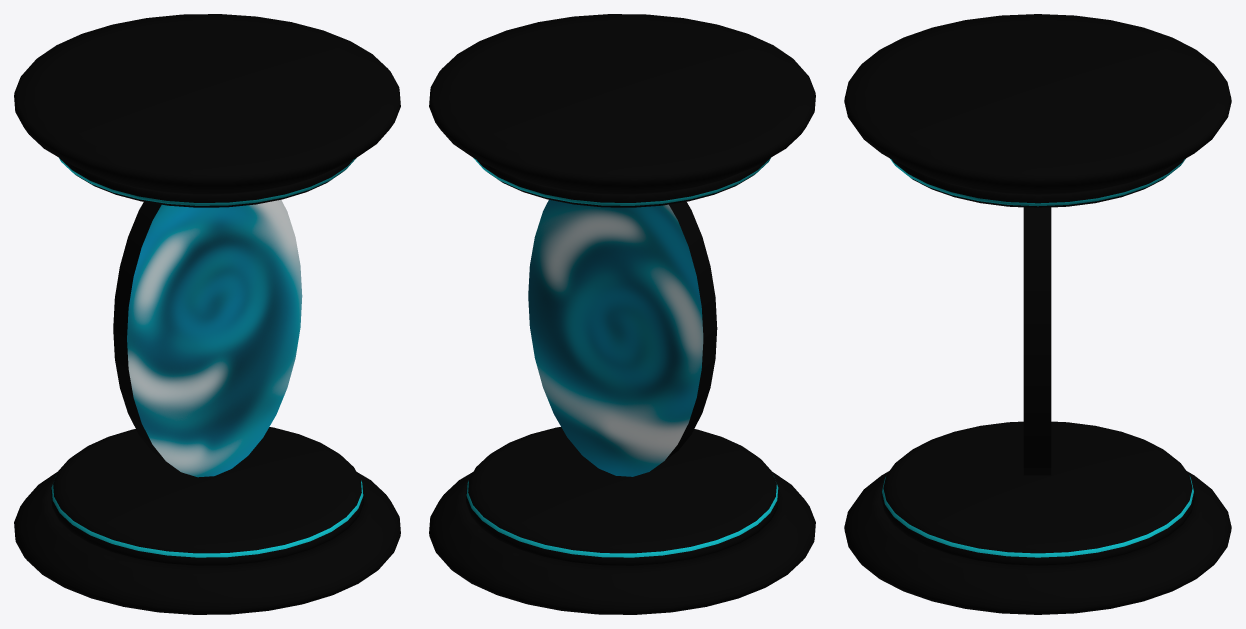
Rendered from Portal.fbx.
3 views of the same model, side by side, from view 1: azimuth 30°, elevation 25°; view 2: azimuth 150°, elevation 25°; view 3: azimuth 270°, elevation 25° (orthographic).
Parts seen in each view (by area): view 1: PortalParteCima, PortalParteBaixo, Circle; view 2: PortalParteCima, PortalParteBaixo, Circle; view 3: PortalParteCima, PortalParteBaixo, Circle.
Boxes of the visible parts, x1,y1,x2,y2 form: PortalParteCima: (14, 14, 400, 207); PortalParteBaixo: (14, 427, 400, 614); Circle: (113, 200, 302, 477); PortalParteCima: (429, 14, 815, 207); PortalParteBaixo: (429, 427, 815, 614); Circle: (528, 200, 717, 476); PortalParteCima: (844, 14, 1231, 207); PortalParteBaixo: (844, 421, 1231, 614); Circle: (1023, 207, 1051, 475).
Bounding box in the file's own units: 80.49 × 80.49 × 102.
6 materials, 1 textured.
